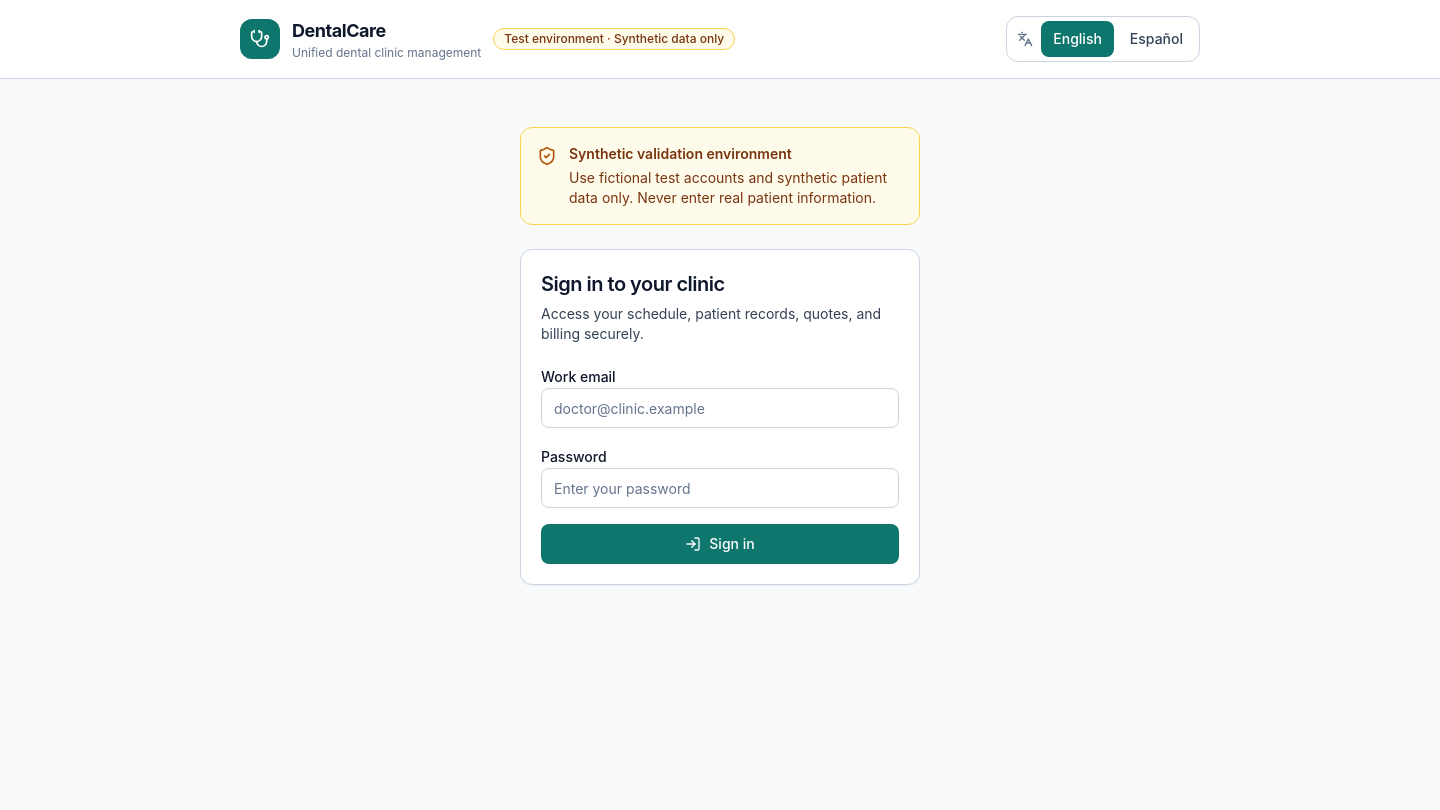
Scenario: T-03 Authentication, Route Protection, and Clinic Shell Flow › 1 & 2. redirects unauthenticated visitor from /patients to /login, then after sign-in restores /patients and displays clinic name + human role label
Expected: the heading "Sign in to your clinic" is shown, [541,272,725,296]
Type "nur.synthetic@dentalcare.test" into the field labelled "Work email" at (720,408), box [541,388,899,428]
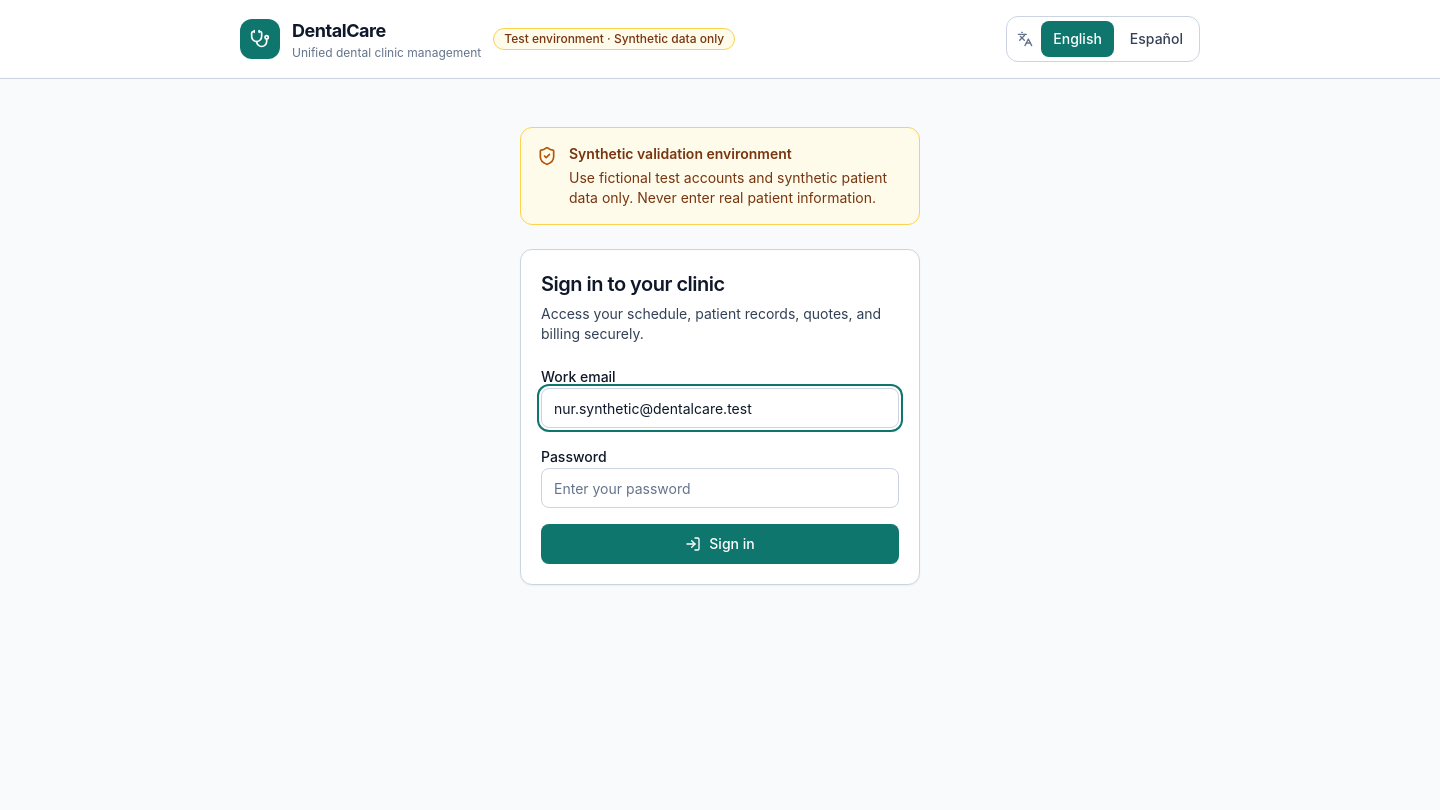
Type "SyntheticPass!123" into the password field labelled "Password" at (720,488), box [541,468,899,508]
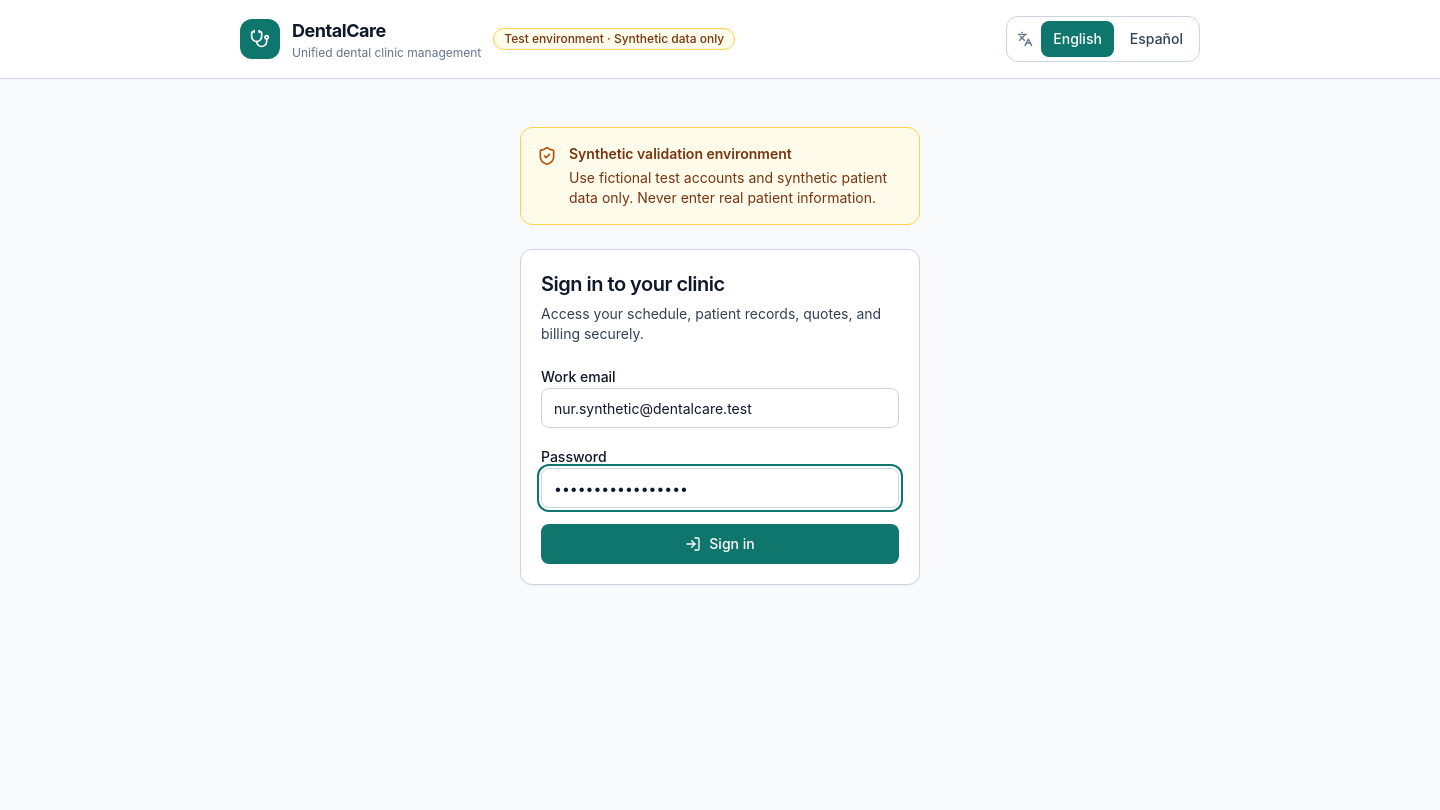
Click the button "Sign in" at (720,544), box [541,524,899,564]
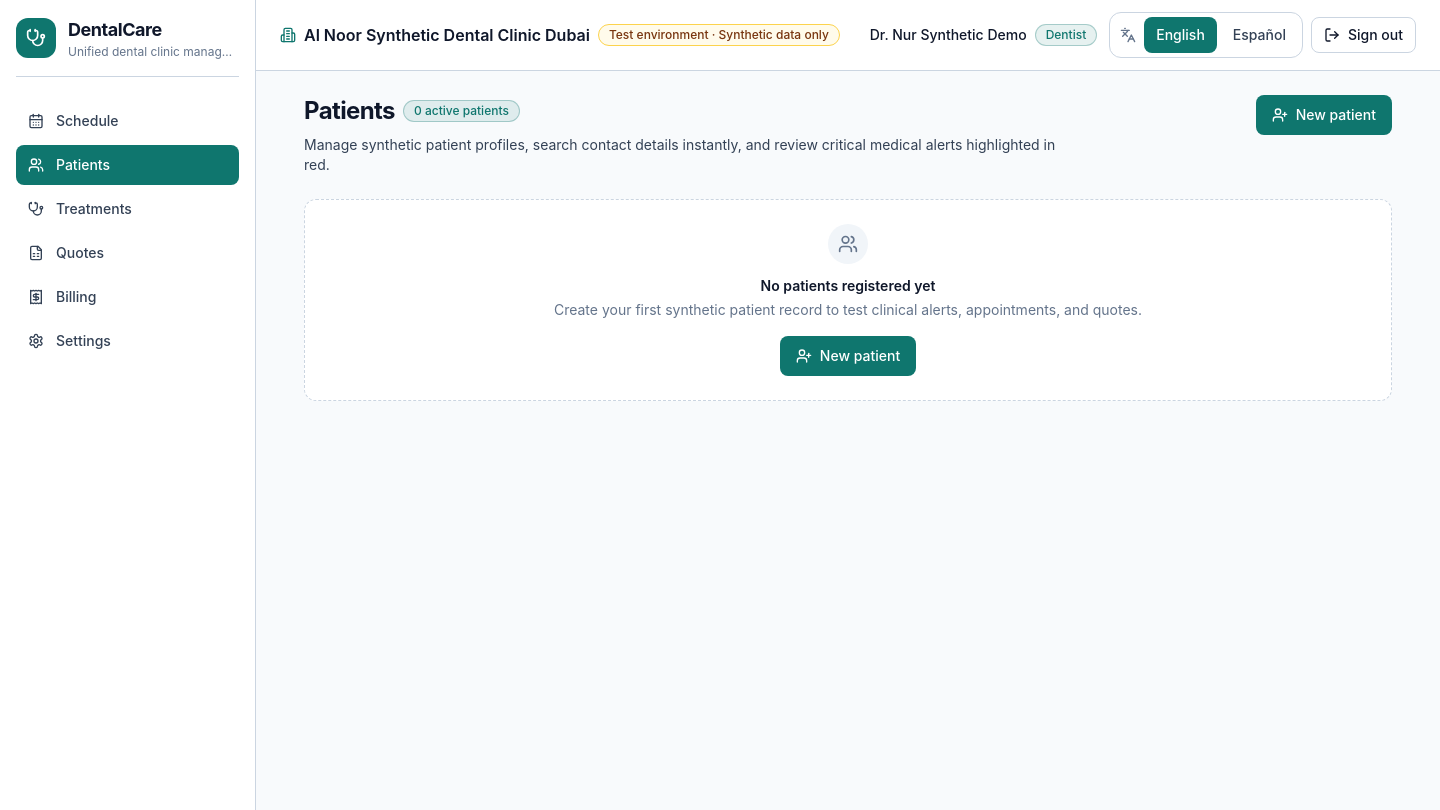
Now the heading "Patients" is shown, box [304,95,395,127]
Now the text "Al Noor Synthetic Dental Clinic Dubai" is shown, box [304,23,590,47]
Now the text "Dr. Nur Synthetic Demo" is shown, box [870,25,1027,45]
